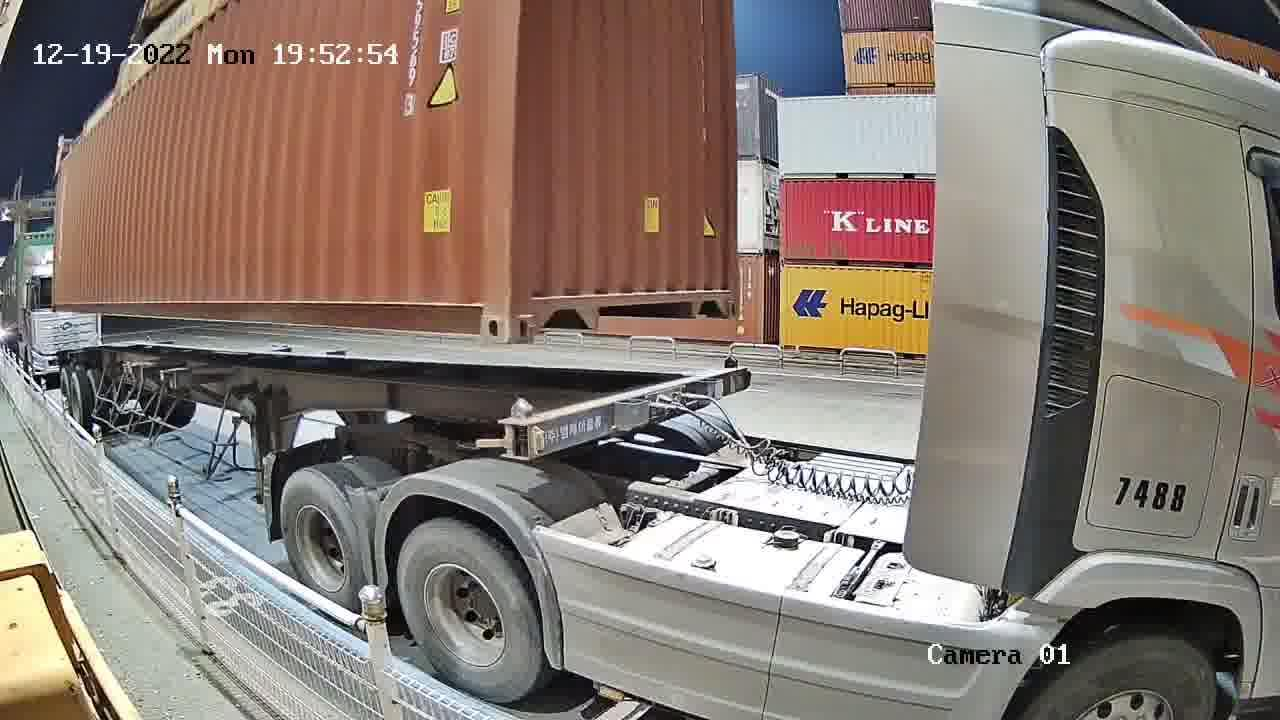Chassis: (501, 367, 746, 458)
Cone: (501, 394, 538, 459), (718, 353, 740, 373)
Hole_L: (507, 276, 566, 342)
Hole_R: (449, 277, 509, 342), (698, 263, 740, 316)
Tire: (397, 520, 540, 701), (279, 473, 364, 603)
